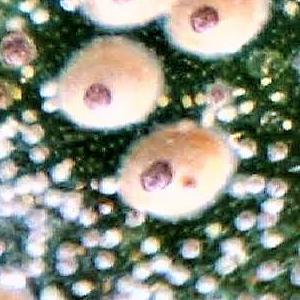Femea: (121, 144, 214, 210), (64, 57, 158, 121), (160, 0, 259, 44)
Linfa: (50, 159, 71, 188), (59, 194, 82, 220), (79, 228, 104, 249), (68, 278, 92, 297), (53, 258, 81, 274), (262, 230, 288, 247), (20, 123, 42, 143), (168, 265, 189, 285), (264, 177, 286, 196), (254, 260, 278, 277), (99, 231, 124, 247), (213, 257, 235, 275), (96, 177, 119, 194), (89, 251, 112, 268), (222, 240, 245, 257), (80, 209, 98, 230), (37, 98, 59, 115), (147, 255, 169, 272), (37, 79, 56, 98), (15, 107, 36, 123), (139, 236, 158, 253), (237, 211, 256, 228), (245, 173, 262, 192), (262, 197, 282, 213), (217, 105, 235, 122), (183, 238, 199, 257), (205, 222, 224, 238), (235, 99, 254, 115), (130, 262, 151, 276), (195, 278, 216, 292), (229, 84, 248, 99), (57, 244, 77, 257), (98, 201, 114, 215)
